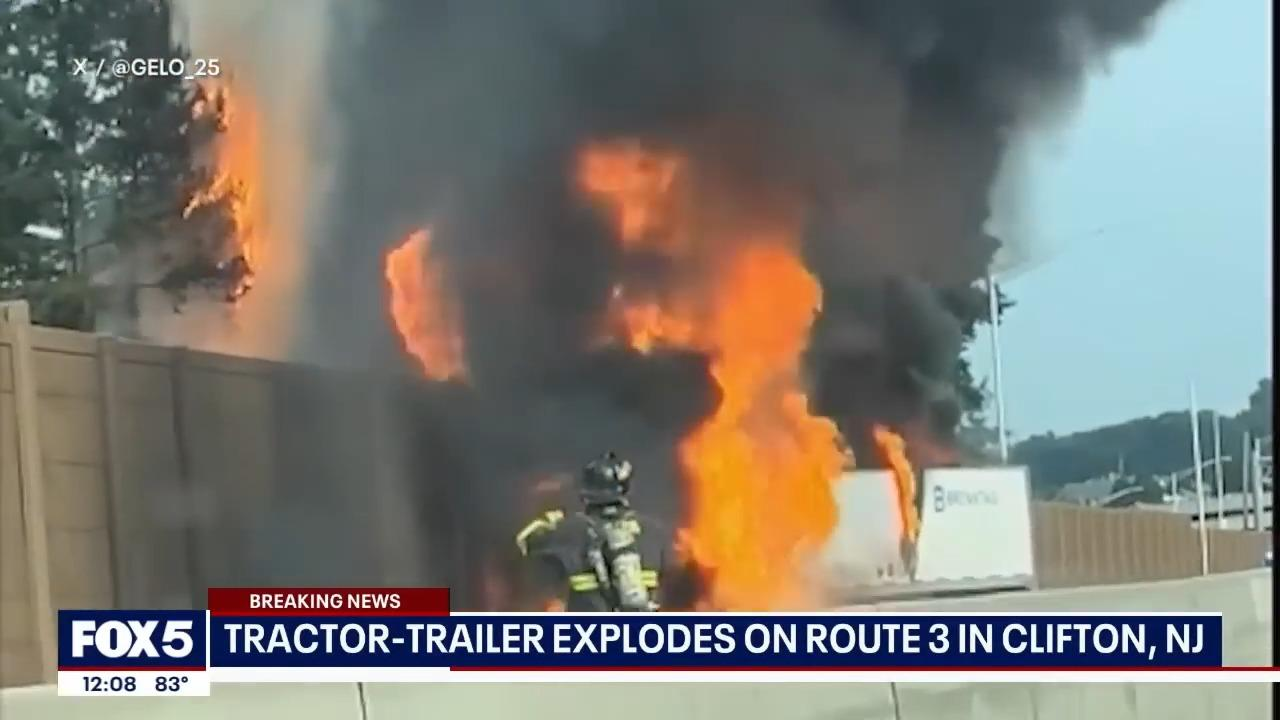fire: (569, 127, 851, 403), (668, 417, 830, 610), (149, 84, 286, 290), (380, 226, 470, 376)
